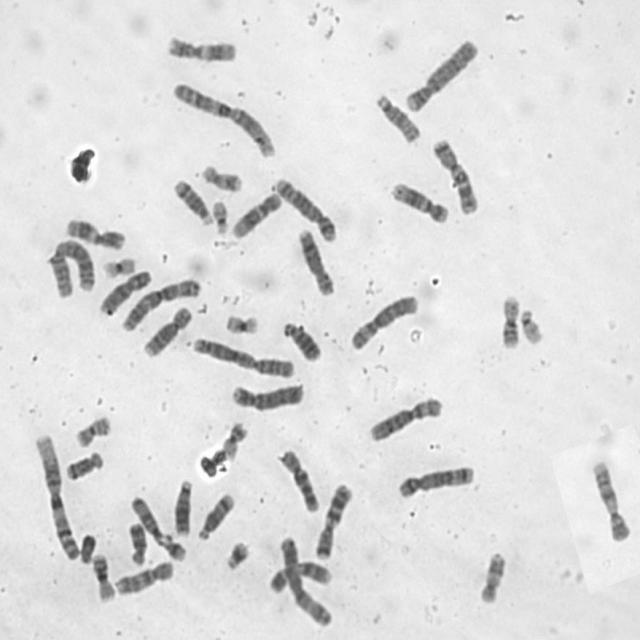A1: (168, 76, 278, 160), (30, 429, 81, 563)
A2: (188, 332, 296, 379), (44, 236, 97, 300)
A3: (276, 532, 336, 629), (119, 274, 203, 332)
B4: (401, 32, 481, 114), (228, 378, 308, 412)
B5: (271, 172, 340, 243), (394, 460, 477, 500)
C10: (275, 444, 321, 515), (112, 556, 176, 597)
C11: (163, 30, 239, 64), (62, 212, 127, 251)
C12: (387, 177, 452, 224), (229, 187, 283, 240)
C6: (346, 288, 422, 352), (364, 391, 446, 444)
C7: (428, 132, 482, 216), (311, 478, 356, 562)
C8: (294, 224, 337, 297), (140, 302, 195, 358)
C9: (588, 455, 632, 543), (264, 556, 334, 595)
D13: (279, 317, 324, 363), (170, 475, 195, 538)
D14: (169, 174, 215, 226), (195, 489, 237, 542)
D15: (372, 88, 423, 145), (127, 492, 167, 541)
E16: (89, 548, 118, 604), (497, 289, 523, 350)
E17: (475, 545, 508, 606), (198, 159, 245, 194)
E18: (62, 447, 106, 482), (124, 518, 150, 567)
F19: (221, 308, 262, 336), (99, 252, 138, 280)
F20: (71, 410, 114, 449), (218, 418, 250, 460)
G21: (221, 535, 252, 573), (160, 531, 188, 563)
G22: (517, 303, 546, 346), (209, 196, 231, 237)
X: (95, 264, 154, 317)
Y: (76, 529, 98, 564)
